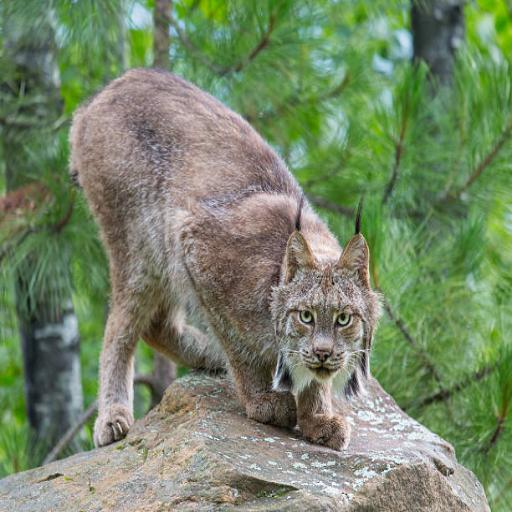lynx: (70, 68, 380, 450)
